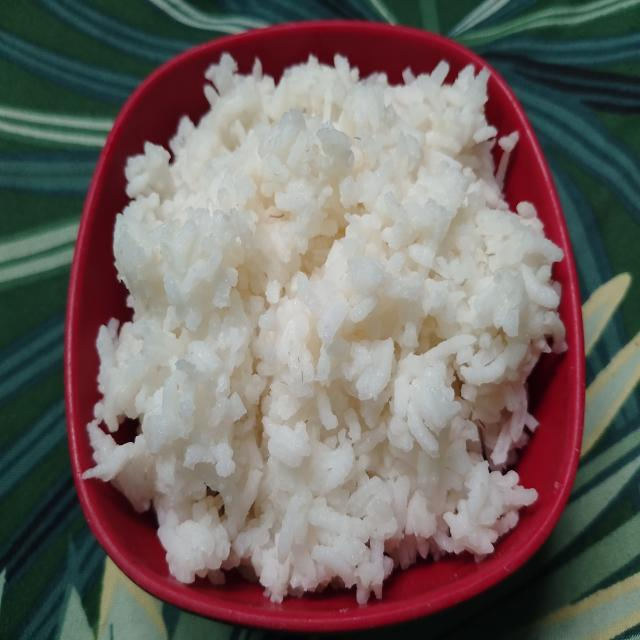Chicken -Chicken Inasal-: (107, 50, 528, 569)
